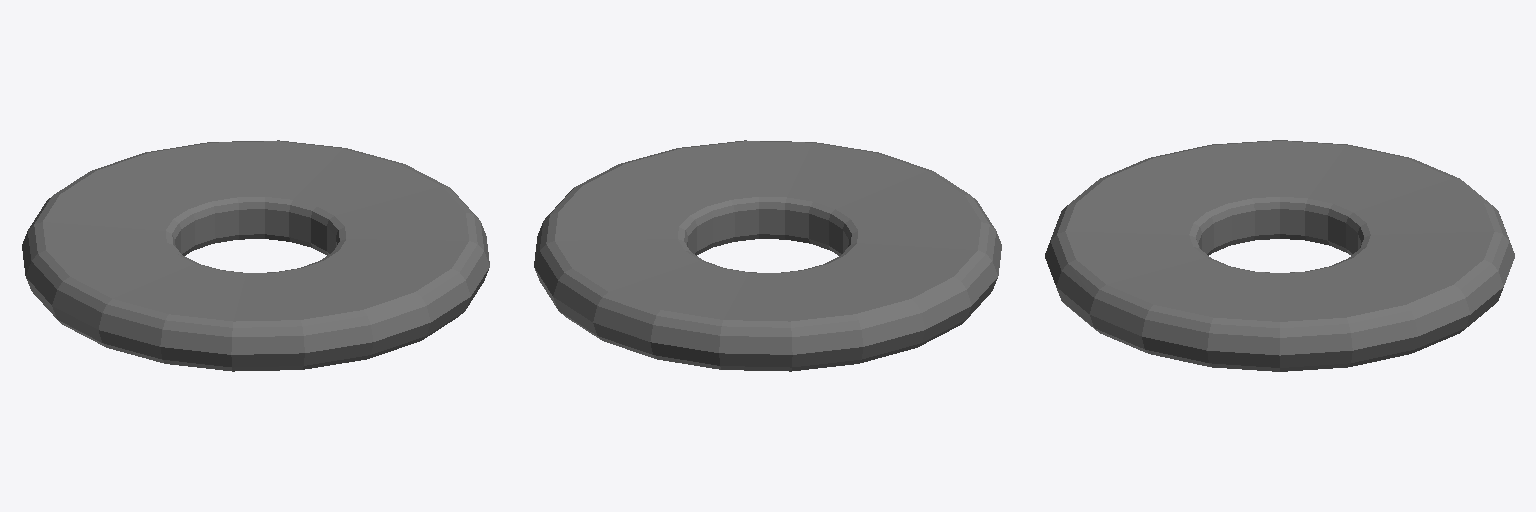
File: Wreath_Cookie_OBJ.obj
3 views of the same model, side by side, from view 1: azimuth 30°, elevation 25°; view 2: azimuth 150°, elevation 25°; view 3: azimuth 270°, elevation 25° (orthographic).
Parts seen in each view (by area): view 1: Wreath_Cookie_Mesh.002; view 2: Wreath_Cookie_Mesh.002; view 3: Wreath_Cookie_Mesh.002.
Boxes of the visible parts, x1,y1,x2,y2 form: Wreath_Cookie_Mesh.002: [22, 140, 489, 371]; Wreath_Cookie_Mesh.002: [534, 140, 1001, 371]; Wreath_Cookie_Mesh.002: [1045, 140, 1514, 371].
Bounding box in the file's own units: 0.1045 × 0.0121 × 0.1045.